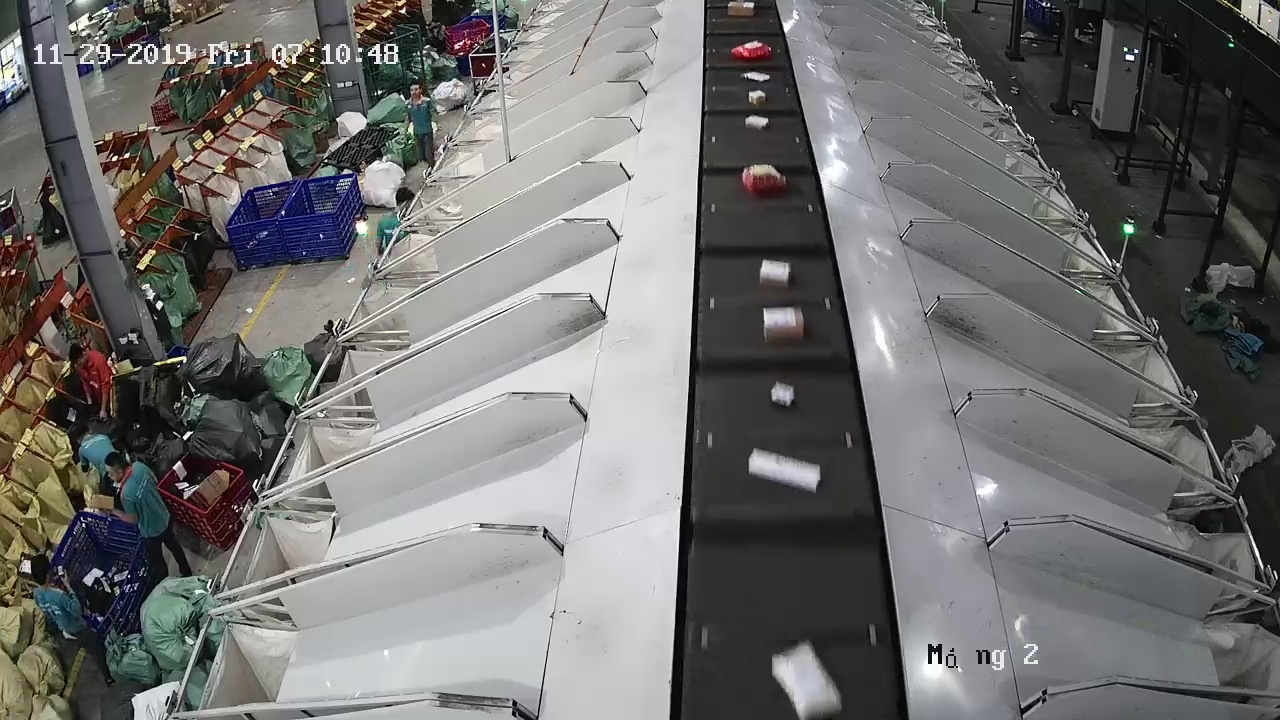parcel: (772, 641, 842, 720), (748, 448, 821, 494), (763, 305, 804, 344), (741, 164, 787, 198), (759, 259, 791, 288), (770, 381, 795, 408)
